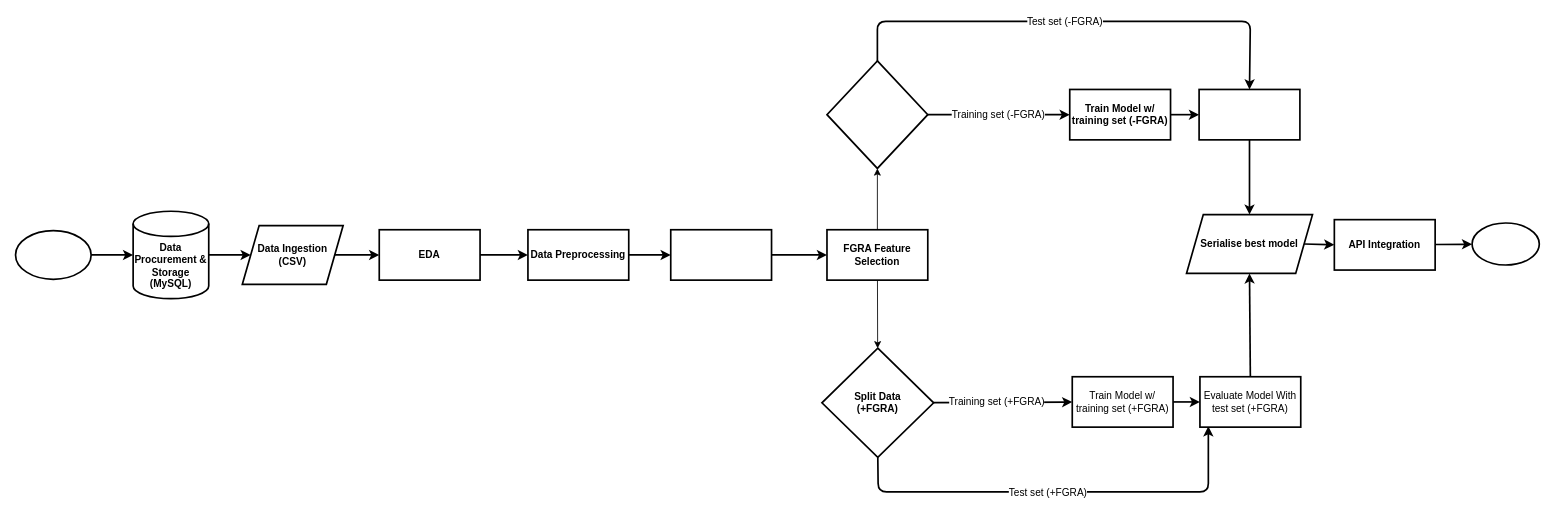
Image size: 1554x513. Some labels were removed from this diagram. The shapes that lost their labels are listed below. From the top down, each one's centre as x and y in pixels, then its label:
pixel 877 114: Split Data (-FGRA)
pixel 1249 114: Evaluate Model With test set (-FGRA)
pixel 53 254: Start
pixel 720 254: Feature Engineering
pixel 1505 243: End
